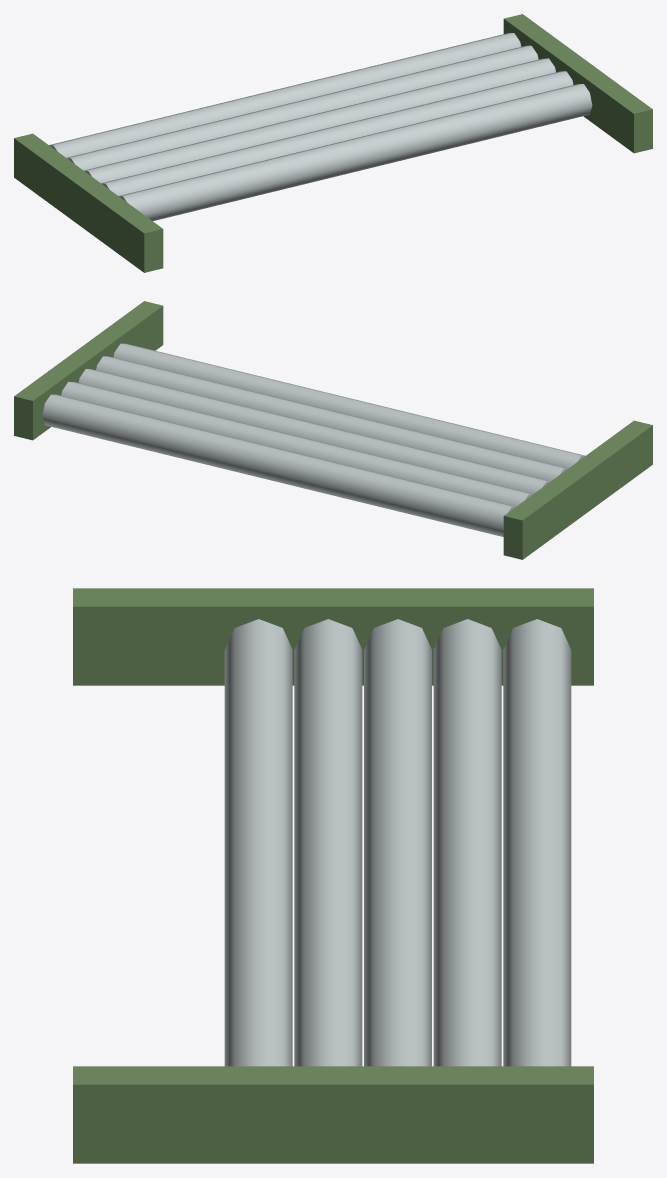
The model's file is HeatingRolls.FBX.
3 views of the same model, one above another, from view 1: azimuth 30°, elevation 25°; view 2: azimuth 150°, elevation 25°; view 3: azimuth 270°, elevation 25° (orthographic). The views are drawn at different scales.
Parts seen in each view (by area): view 1: Object_02_HeatingRolls; view 2: Object_02_HeatingRolls; view 3: Object_02_HeatingRolls.
Boxes of the visible parts, x1,y1,x2,y2 form: Object_02_HeatingRolls: (14,14,652,272); Object_02_HeatingRolls: (14,301,652,559); Object_02_HeatingRolls: (73,588,593,1163).
Bounding box in the file's own units: 14.91 × 1.11 × 6.61.
